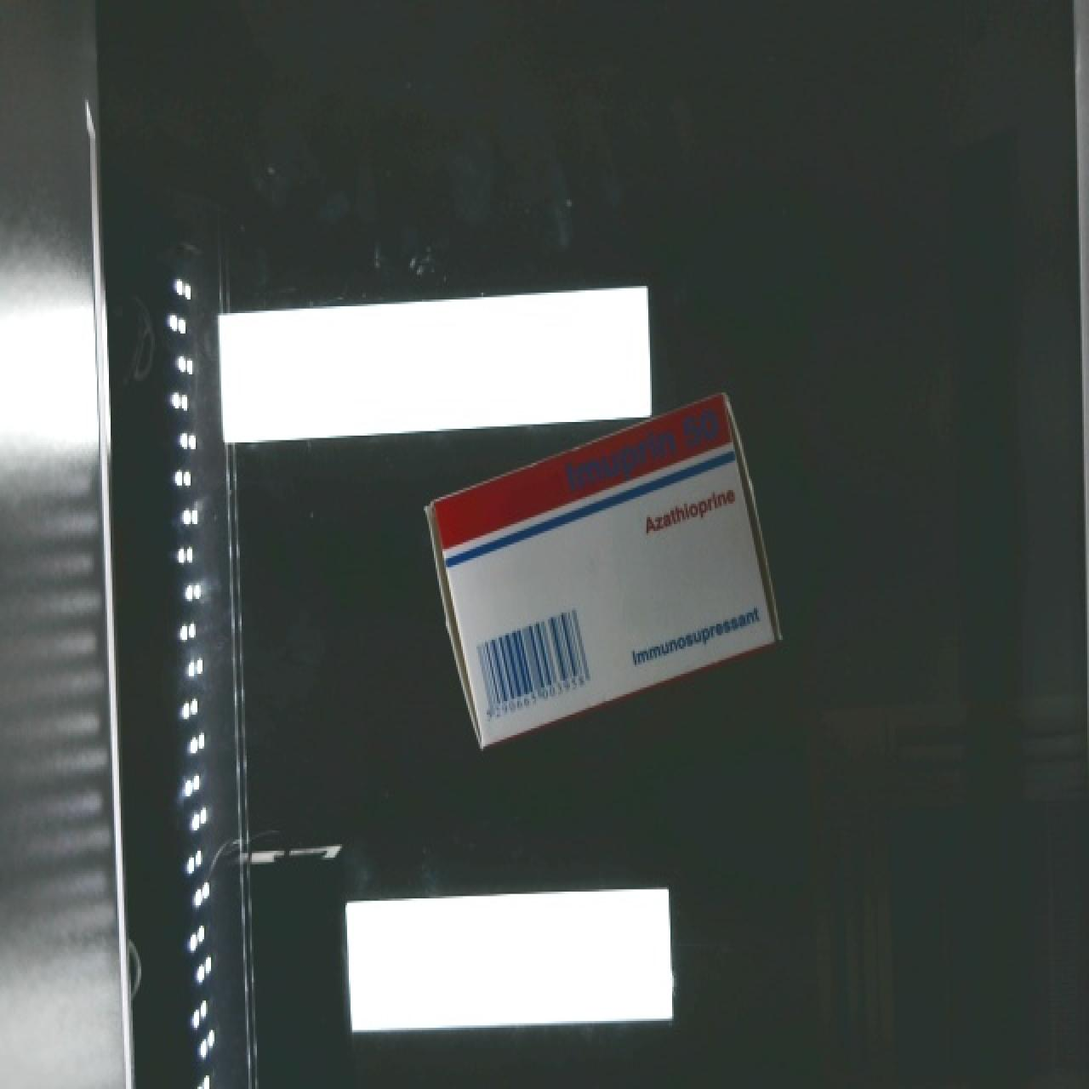medicine_label_obb: (538, 387, 748, 516)
